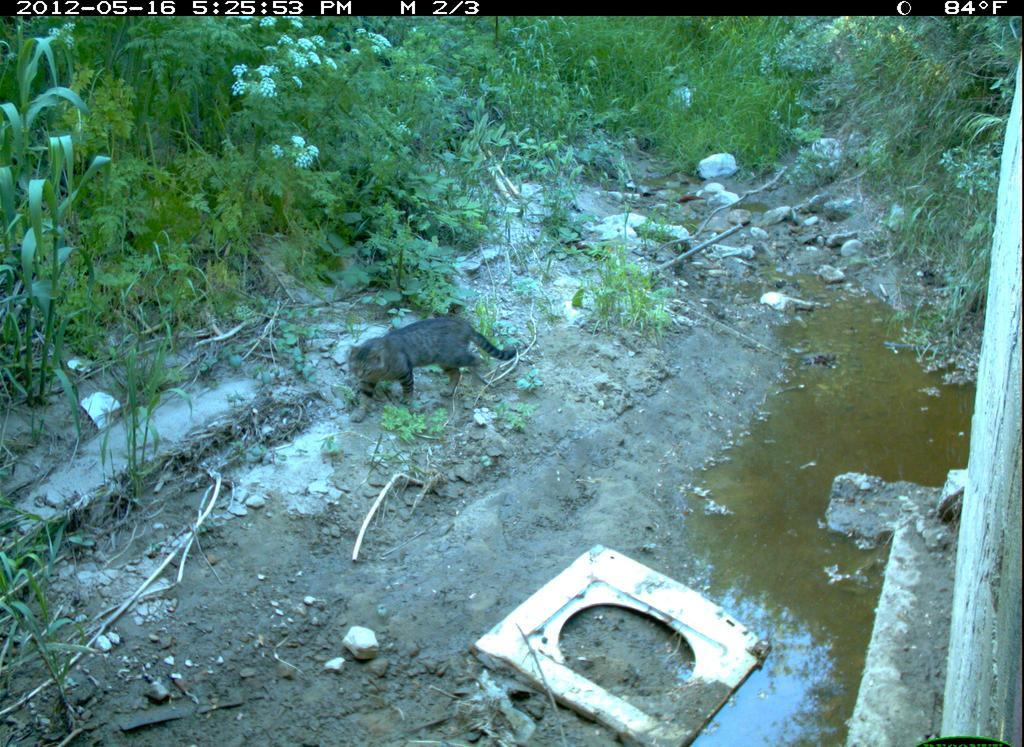cat: (341, 308, 527, 428)
